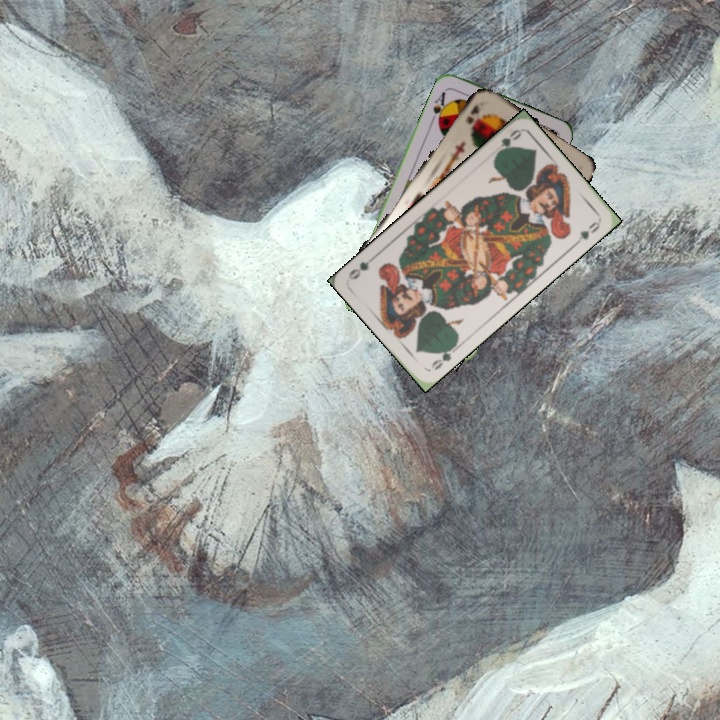GO: (491, 125, 524, 160), (427, 342, 460, 373)
SA: (428, 87, 451, 126)
SK: (462, 100, 481, 126)
